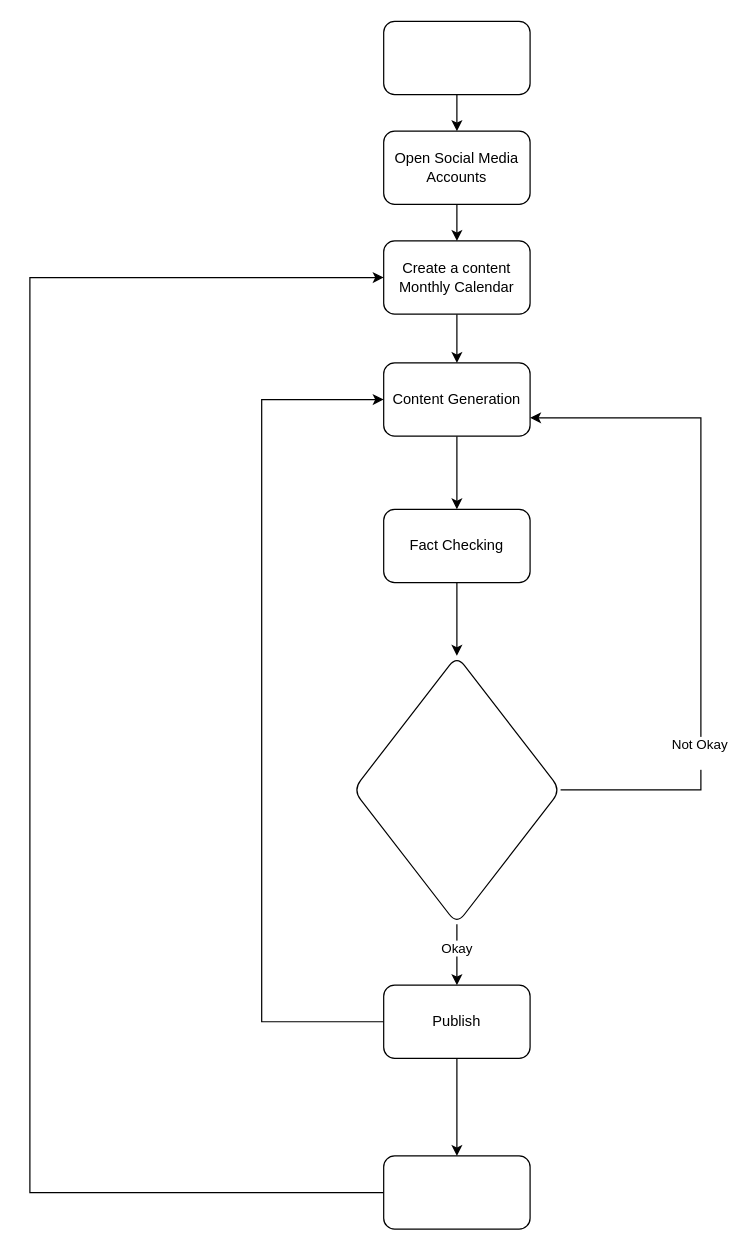
Some shapes in this 748 by 1251 pixel diagram are drawn without their labels. Here are the shapes that lost their labels. From the top down, the centre of each, then its label:
point 456,57: Create Email
point 456,789: Send Draft to "Approval Committee
point 456,1192: Monthly Performance Review
